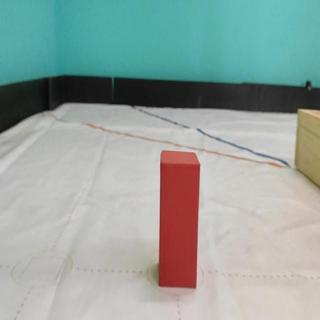redbox: (160, 152, 199, 288)
